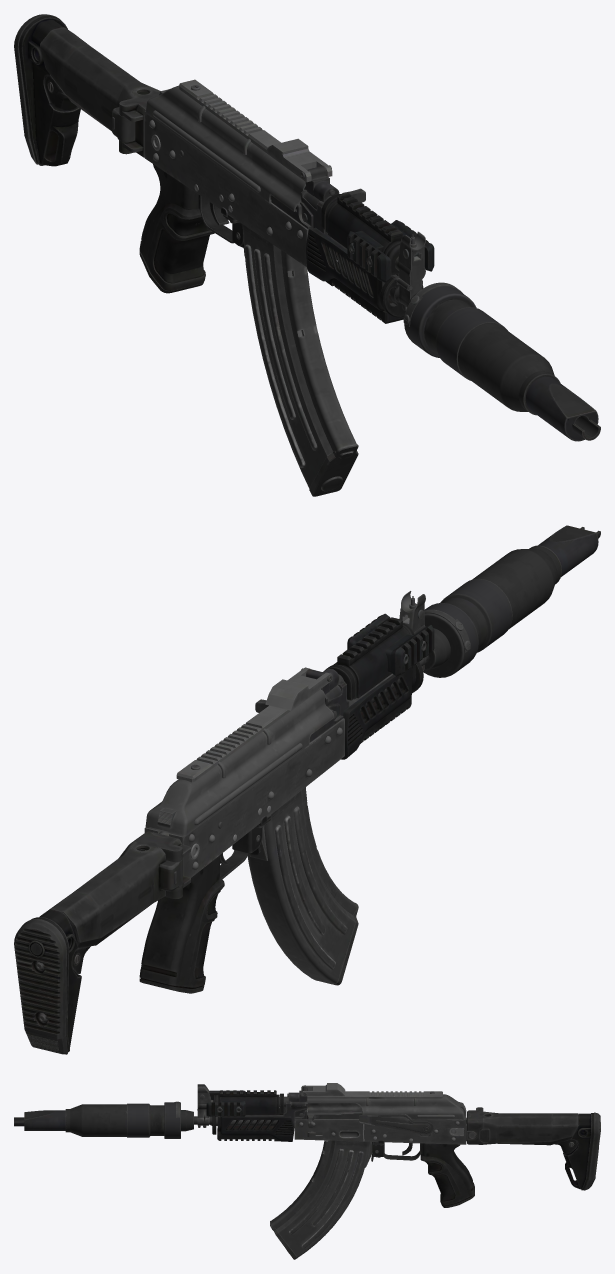
The model's file is maglio.glb.
3 views of the same model, one above another, from view 1: azimuth 30°, elevation 25°; view 2: azimuth 150°, elevation 25°; view 3: azimuth 270°, elevation 25° (orthographic). The views are drawn at different scales.
Parts seen in each view (by area): view 1: mag_low, SIL_low, upper_reciver_low, Lower_reciver_low, handle_low, stock_2_low, stock_3_low, Handguard_4_low, Handguard_2_low, Handguard_3_low, picatinny_plank_low, iron_sight_1_low (+7 smaller); view 2: mag_low, SIL_low, upper_reciver_low, handle_low, stock_2_low, Lower_reciver_low, stock_4_low, Handguard_4_low, Handguard_2_low, picatinny_plank_low, Handguard_3_low, stock_3_low (+5 smaller); view 3: mag_low, SIL_low, Lower_reciver_low, stock_2_low, upper_reciver_low, handle_low, Handguard_4_low, stock_3_low, Handguard_2_low, bolt_carrier_2_low, safety_switch_low, picatinny_plank_low (+8 smaller).
Boxes of the visible parts, bbox=[...] form: mag_low: bbox=[242, 224, 356, 488]; SIL_low: bbox=[404, 286, 600, 441]; upper_reciver_low: bbox=[145, 85, 305, 211]; Lower_reciver_low: bbox=[144, 111, 336, 266]; handle_low: bbox=[139, 164, 214, 293]; stock_2_low: bbox=[40, 27, 160, 142]; stock_3_low: bbox=[18, 15, 148, 166]; Handguard_4_low: bbox=[306, 227, 403, 323]; Handguard_2_low: bbox=[325, 193, 402, 254]; Handguard_3_low: bbox=[347, 220, 434, 282]; picatinny_plank_low: bbox=[179, 79, 304, 180]; iron_sight_1_low: bbox=[324, 196, 425, 310]; mag_low: bbox=[247, 787, 357, 983]; SIL_low: bbox=[423, 525, 600, 677]; upper_reciver_low: bbox=[145, 689, 334, 836]; handle_low: bbox=[139, 855, 224, 993]; stock_2_low: bbox=[39, 841, 182, 947]; Lower_reciver_low: bbox=[144, 718, 344, 877]; stock_4_low: bbox=[14, 919, 67, 1054]; Handguard_4_low: bbox=[341, 664, 415, 759]; Handguard_2_low: bbox=[333, 617, 411, 699]; picatinny_plank_low: bbox=[176, 689, 320, 782]; Handguard_3_low: bbox=[347, 613, 434, 676]; stock_3_low: bbox=[31, 848, 146, 1052]; mag_low: bbox=[270, 1140, 372, 1257]; SIL_low: bbox=[14, 1102, 193, 1138]; Lower_reciver_low: bbox=[294, 1110, 466, 1144]; stock_2_low: bbox=[483, 1111, 578, 1145]; upper_reciver_low: bbox=[307, 1094, 465, 1119]; handle_low: bbox=[420, 1143, 474, 1207]; Handguard_4_low: bbox=[217, 1108, 294, 1141]; stock_3_low: bbox=[485, 1113, 594, 1190]; Handguard_2_low: bbox=[217, 1090, 279, 1115]; bolt_carrier_2_low: bbox=[307, 1103, 362, 1127]; safety_switch_low: bbox=[359, 1115, 433, 1134]; picatinny_plank_low: bbox=[307, 1091, 442, 1098].
Bounding box in the file's own units: 6.68 × 24.18 × 75.25.
1 material, 1 textured.
